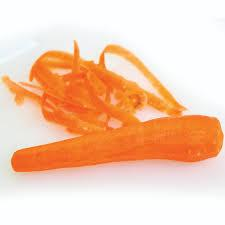Organic: (6, 28, 225, 215)
